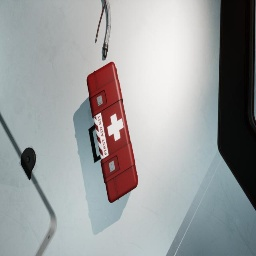FirstAidBox ,: (86, 62, 138, 203)
